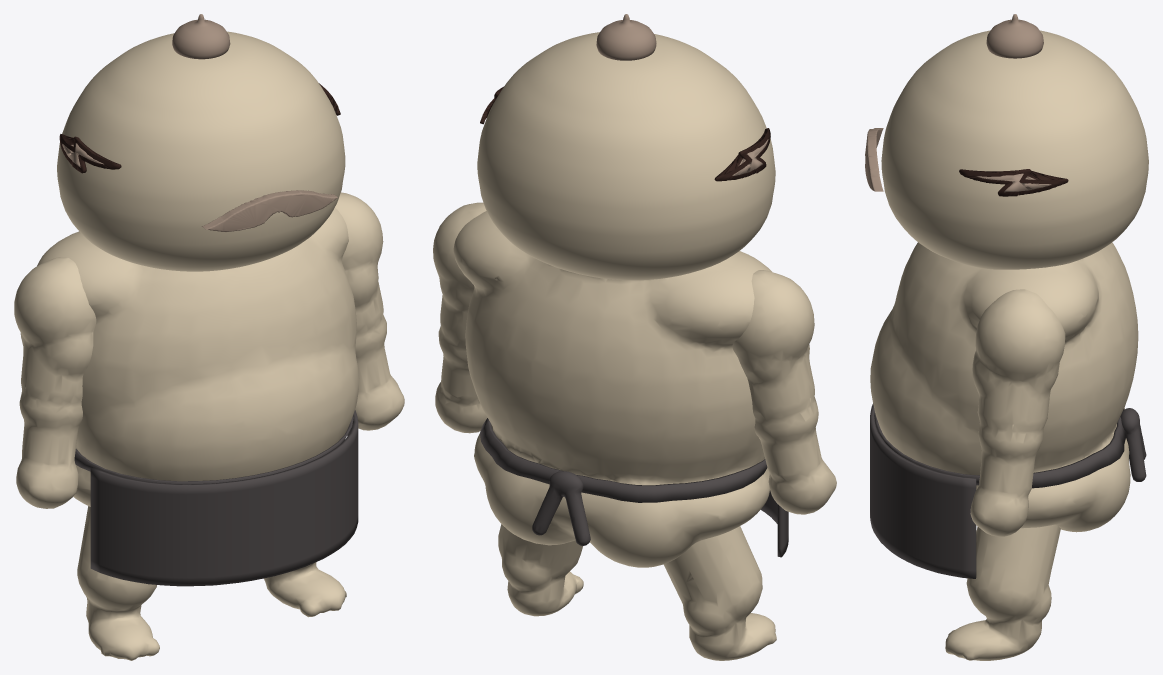
The model's file is shimajiro.glb.
3 renders of one model, left to right at view 1: azimuth 30°, elevation 25°; view 2: azimuth 150°, elevation 25°; view 3: azimuth 270°, elevation 25°, orthographic. The views are drawn at different scales.
Visible parts, largest first — view 1: shimajiro; view 2: shimajiro; view 3: shimajiro.
Boxes of the visible parts, box(x1,y1,x2,y2) form: shimajiro: box(14, 14, 404, 660); shimajiro: box(433, 14, 836, 660); shimajiro: box(865, 14, 1148, 660).
Bounding box in the file's own units: 1.18 × 1.81 × 0.7796.
